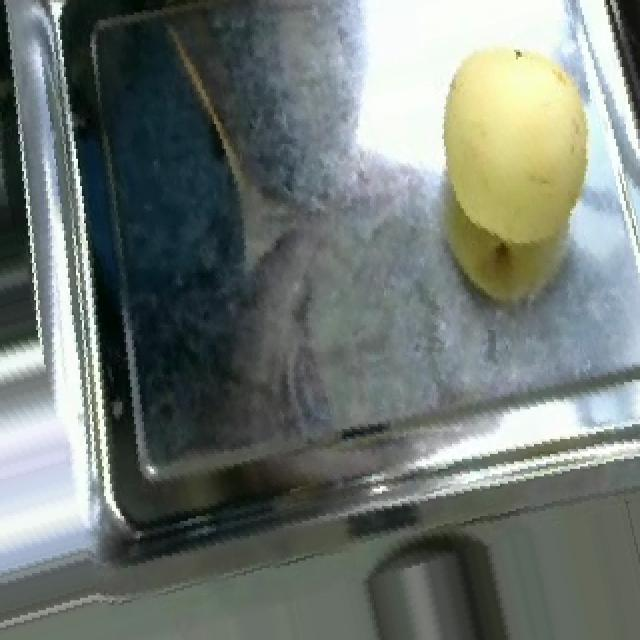Fruit: (414, 17, 612, 278)
